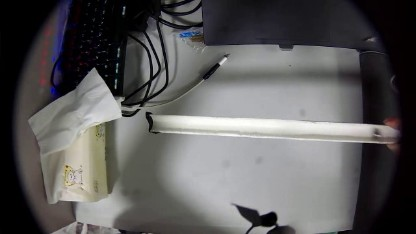gangzhu: (371, 127, 384, 140)
